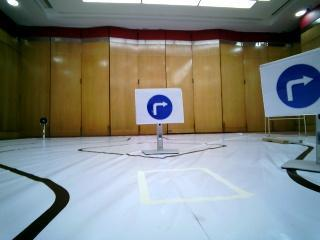right: (262, 65, 320, 104), (137, 90, 183, 123)
